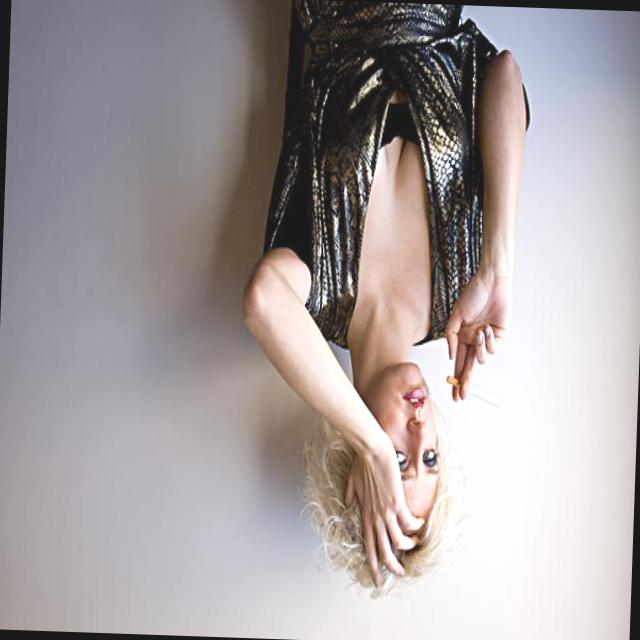smoke: (439, 368, 506, 413)
